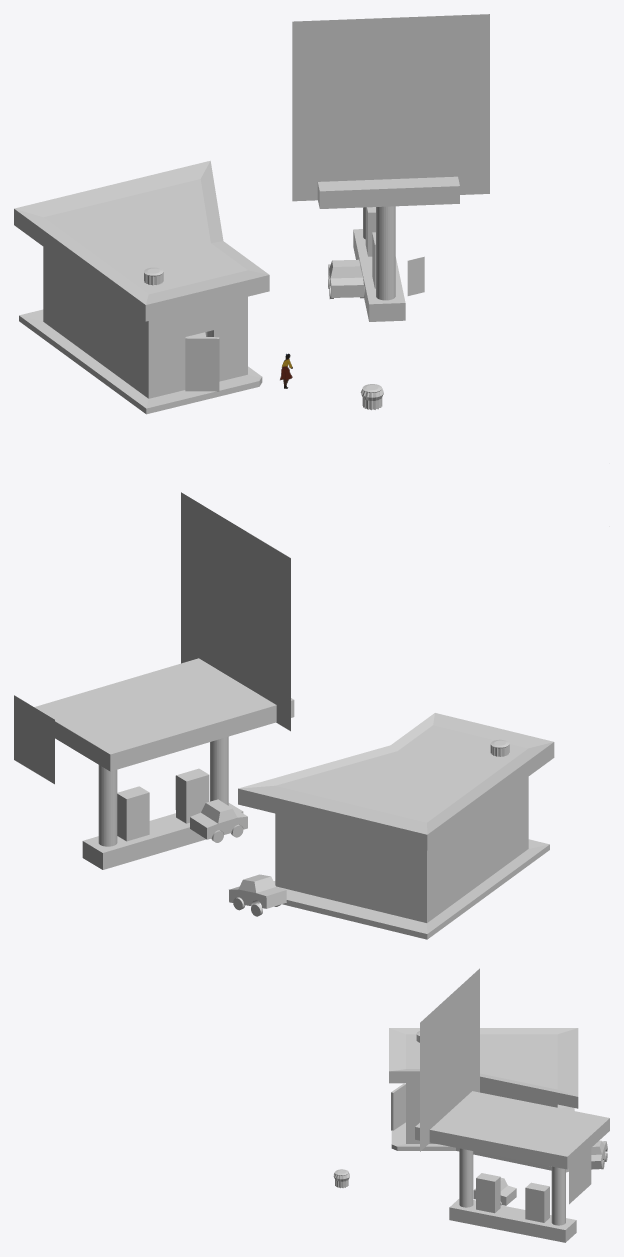
The picture shows the model from 3 angles, top to bottom: view 1: azimuth 30°, elevation 25°; view 2: azimuth 150°, elevation 25°; view 3: azimuth 270°, elevation 25°; orthographic projection. The views are drawn at different scales.
Parts seen in each view (by area): view 1: building.002, right_dragon_front, carport_roof.002, carport_base.002, door.002, carport_pillar_near.002, car_body.002, chester.002; view 2: building.002, right_dragon_front, carport_roof.002, carport_base.002, right_dragon_tail, carport_pillar_far.002, car_body.002, wrecked_car_body.002, carport_pillar_near.002; view 3: building.002, carport_roof.002, right_dragon_front, carport_base.002, right_dragon_tail, carport_pillar_near.002, carport_pillar_far.002, door.002, wrecked_car_body.002.
Part boxes in pixels (box(x1,y1,x2,y2)): building.002: box(14, 160, 269, 414); right_dragon_front: box(292, 14, 489, 201); carport_roof.002: box(317, 176, 459, 208); carport_base.002: box(353, 207, 405, 321); door.002: box(185, 337, 219, 391); carport_pillar_near.002: box(376, 206, 395, 300); car_body.002: box(328, 259, 363, 297); chester.002: box(407, 256, 424, 295); building.002: box(238, 713, 554, 939); right_dragon_front: box(181, 492, 290, 731); carport_roof.002: box(34, 658, 294, 771); carport_base.002: box(82, 768, 243, 869); right_dragon_tail: box(14, 695, 54, 784); carport_pillar_far.002: box(98, 765, 117, 846); car_body.002: box(190, 799, 247, 839); wrecked_car_body.002: box(229, 874, 286, 908); carport_pillar_near.002: box(210, 736, 228, 805); building.002: box(389, 1028, 578, 1172); carport_roof.002: box(415, 1091, 609, 1169); right_dragon_front: box(420, 968, 479, 1151); carport_base.002: box(449, 1173, 576, 1242); right_dragon_tail: box(569, 1136, 591, 1204); carport_pillar_near.002: box(459, 1148, 473, 1207); carport_pillar_far.002: box(551, 1166, 565, 1225); door.002: box(391, 1083, 405, 1130); wrecked_car_body.002: box(591, 1140, 607, 1169).
Size of what is drawn, in the model's own units: 5133 by 3494 by 8463.
